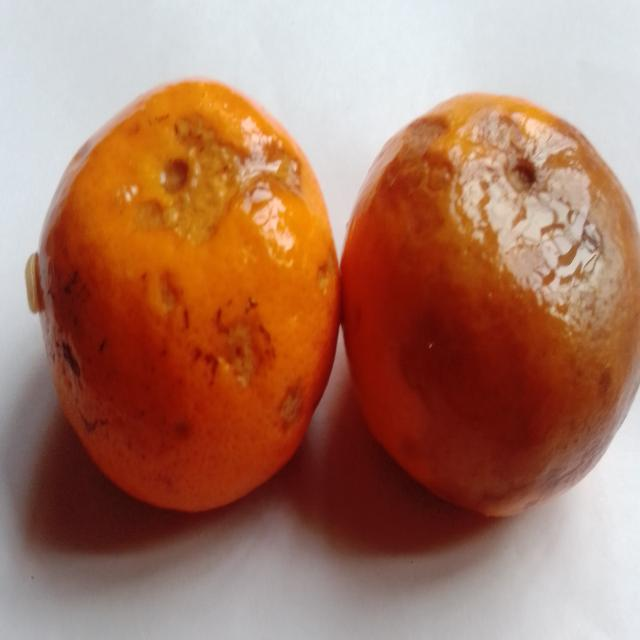orange: (27, 82, 339, 510), (342, 95, 639, 515)
